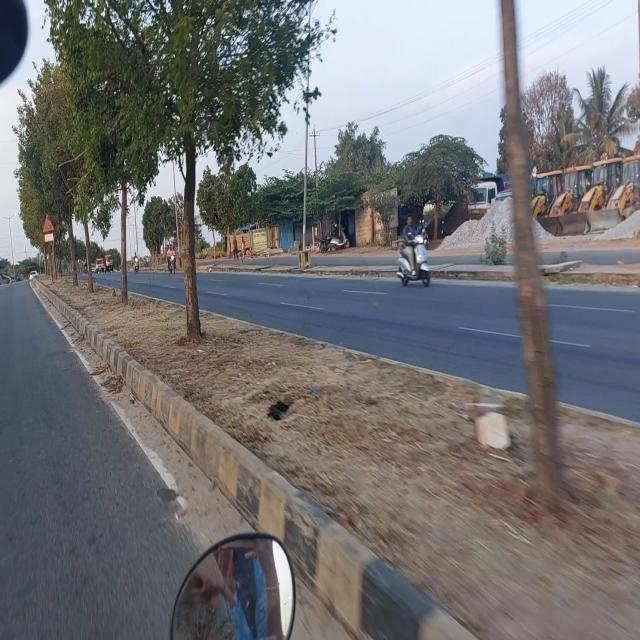bien_nguy_hiem: (42, 209, 54, 235)
